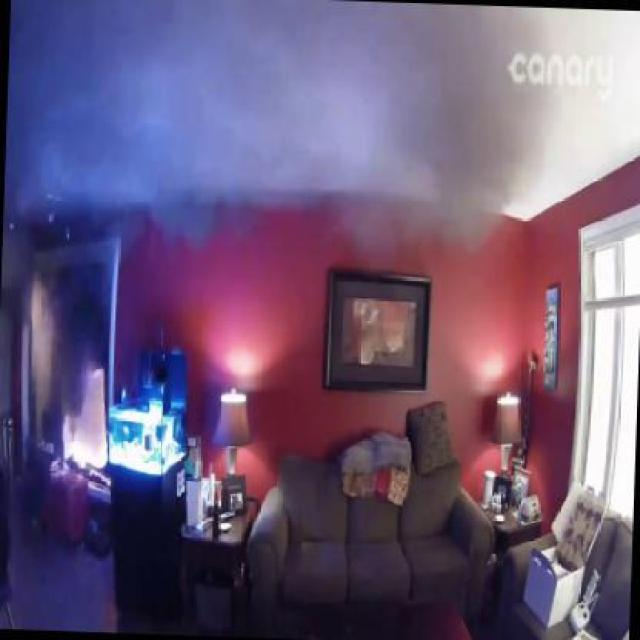fire: (16, 8, 550, 267)
